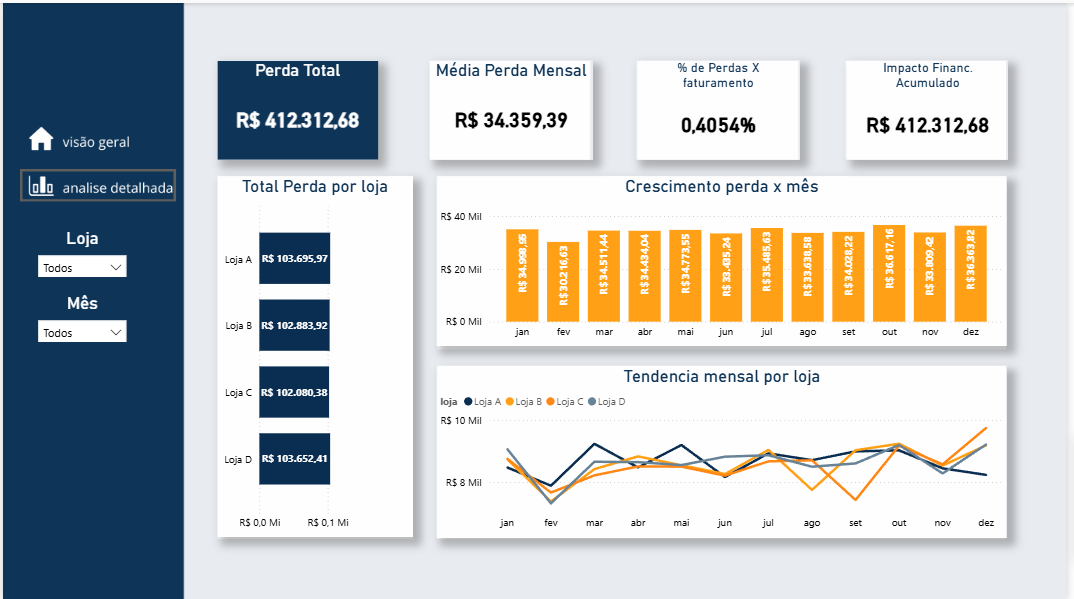

This screenshot's page, from the dashboard's own definition file:
{"tool":"powerbi","page":{"name":"Página 1","canvas":[1280,720],"ordinal":0},"visuals":[{"type":"card","title":"Média Perda Mensal","fields":{"Values":["_métricas.media perda mensal"]},"box":[513.7,68.3,195.8,119.6],"z":0},{"type":"card","title":"Perda Total","fields":{"Values":["_métricas.Total Perda"]},"box":[257.5,68.3,194.5,119.6],"z":1000},{"type":"card","title":"% de Perdas X faturamento","fields":{"Values":["_métricas.% perda x faturamento"]},"box":[762,68.3,198.4,119.6],"z":2000},{"type":"card","title":"Impacto Financ. Acumulado","fields":{"Values":["_métricas.Impacto Financeiro acumulado"]},"box":[1015.6,68.3,194.5,119.6],"z":3000},{"type":"slicer","title":"Mês","fields":{"Values":["calendário.Nome do Mês"]},"box":[32.8,349.5,126.1,59.1],"z":4000},{"type":"slicer","title":"Loja","fields":{"Values":["perdas_departamento.loja"]},"box":[32.8,270.7,126.1,59.1],"z":5000},{"type":"clusteredBarChart","fields":{"Y":["_métricas.Total Perda"],"Category":["perdas_departamento.loja"]},"box":[257.5,208.5,236.1,435.4],"z":6000},{"type":"clusteredColumnChart","title":"Crescimento perda x mês","fields":{"Y":["_métricas.Total Perda"],"Category":["calendário.Mes abrev"]},"box":[521.2,208.5,688.3,205.4],"z":7000},{"type":"lineChart","title":"Tendencia mensal por loja","fields":{"Category":["calendário.Mes abrev"],"Y":["_métricas.Total Perda"],"Series":["perdas_departamento.loja"]},"box":[521.2,436.9,688.3,206.9],"z":7001}]}

Visuals, with their boxes on the page's 1280x720 design canvas (x1, y1, x2, y2). These are canvas units, not pixel positions in the 1074x599 screenshot, which may show the page scaled, cropped or inside an application window:
"Média Perda Mensal" card: Rect(514, 68, 710, 188)
"Perda Total" card: Rect(258, 68, 452, 188)
"% de Perdas X faturamento" card: Rect(762, 68, 960, 188)
"Impacto Financ. Acumulado" card: Rect(1016, 68, 1210, 188)
"Mês" slicer: Rect(33, 350, 159, 409)
"Loja" slicer: Rect(33, 271, 159, 330)
clusteredBarChart - _métricas.Total Perda x perdas_departamento.loja: Rect(258, 208, 494, 644)
"Crescimento perda x mês" clusteredColumnChart: Rect(521, 208, 1210, 414)
"Tendencia mensal por loja" lineChart: Rect(521, 437, 1210, 644)
